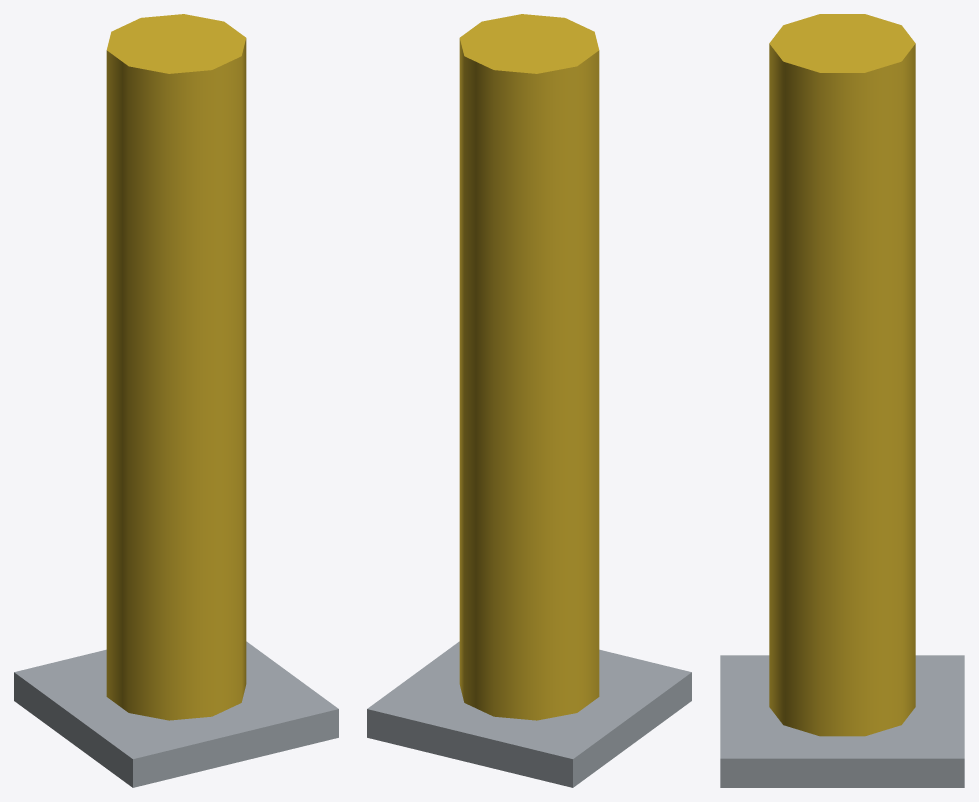
3 views of the same model, side by side, from view 1: azimuth 30°, elevation 25°; view 2: azimuth 150°, elevation 25°; view 3: azimuth 270°, elevation 25° (orthographic). The views are drawn at different scales.
Visible parts, largest first — view 1: post, base; view 2: post, base; view 3: post, base.
Part boxes in pixels (<box>): post: <box>106,14,246,720</box>; base: <box>14,641,338,787</box>; post: <box>459,14,599,720</box>; base: <box>367,641,691,787</box>; post: <box>769,14,915,736</box>; base: <box>720,655,964,787</box>.
Bounding box in the file's own units: 0.3 × 0.94 × 0.3.
